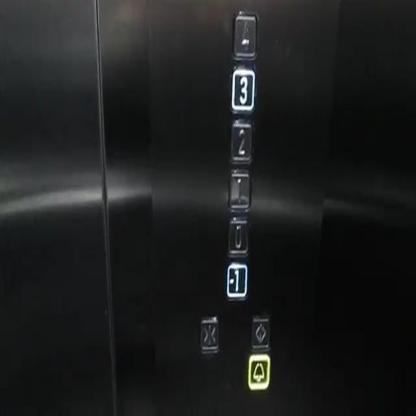-1: (225, 261, 248, 301)
0: (228, 216, 248, 257)
1: (228, 167, 251, 212)
2: (230, 118, 254, 165)
3: (229, 63, 257, 113)
4: (232, 9, 259, 60)
alarm: (247, 353, 270, 389)
close: (200, 315, 220, 353)
open: (250, 313, 270, 348)
